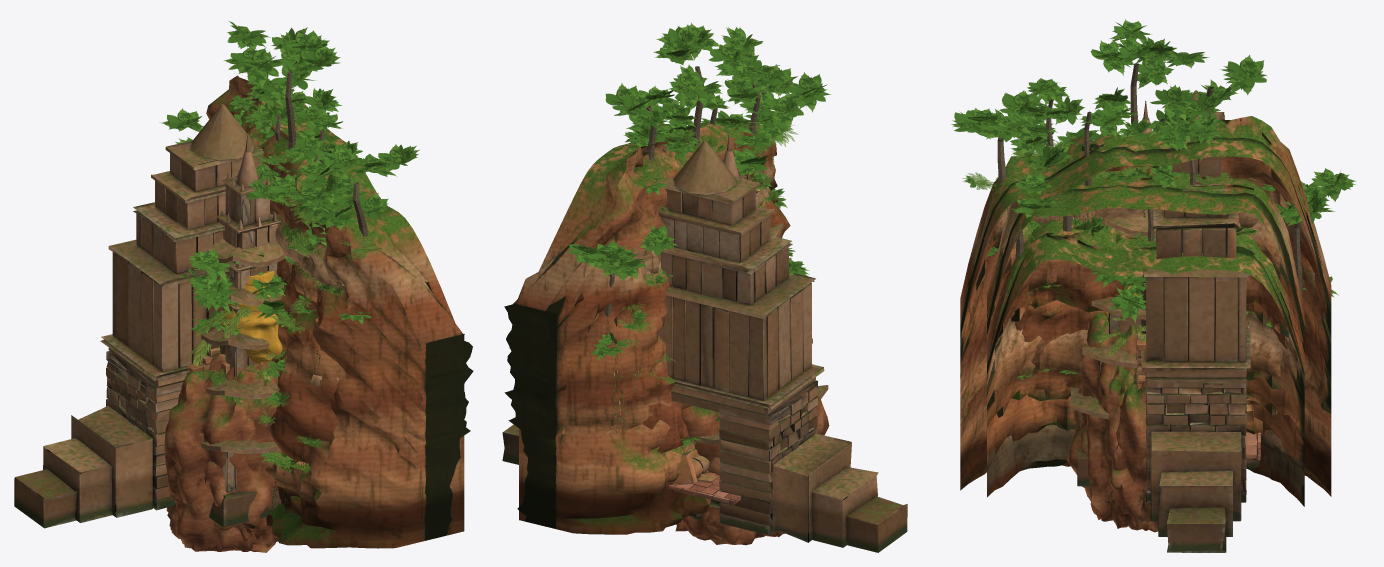
Rendered from kit.high.glb.
3 renders of one model, left to right at view 1: azimuth 30°, elevation 25°; view 2: azimuth 150°, elevation 25°; view 3: azimuth 270°, elevation 25°, orthographic. The views are drawn at different scales.
Visible parts, largest first — view 1: cliff_wall_2, face_gate_0, cliff_wall_2_veg, rock_big_0, cliff_wall_1, temple_1, cliff_wall_1_veg, rock_big_2, temple_0, cliff_wall_0_veg, tree_big_1_crown, face_gate_0_gold (+4 smaller); view 2: cliff_wall_2, face_gate_0, cliff_wall_2_veg, cliff_wall_1_veg, cliff_wall_0_veg, cliff_wall_1, rock_big_1, cliff_wall_2_trees, floor_wide_0, rock_big_2, rock_big_0, column_fallen_0 (+2 smaller); view 3: face_gate_0, cliff_wall_0, cliff_wall_2, cliff_wall_1, cliff_wall_2_veg, rock_big_1, cliff_wall_0_veg, cliff_wall_1_veg, rock_big_2, temple_1, rock_big_0, cliff_wall_2_trees (+1 smaller).
Boxes of the visible parts, x1=… form: cliff_wall_2: x1=206, y1=75, x2=473, y2=548; face_gate_0: x1=14, y1=104, x2=264, y2=528; cliff_wall_2_veg: x1=159, y1=21, x2=419, y2=527; rock_big_0: x1=164, y1=361, x2=278, y2=552; cliff_wall_1: x1=269, y1=196, x2=348, y2=515; temple_1: x1=201, y1=239, x2=285, y2=527; cliff_wall_1_veg: x1=229, y1=84, x2=343, y2=432; rock_big_2: x1=175, y1=353, x2=276, y2=551; temple_0: x1=217, y1=133, x2=280, y2=510; cliff_wall_0_veg: x1=245, y1=164, x2=388, y2=473; tree_big_1_crown: x1=179, y1=248, x2=288, y2=318; face_gate_0_gold: x1=221, y1=271, x2=282, y2=363; cliff_wall_2: x1=504, y1=123, x2=790, y2=534; face_gate_0: x1=502, y1=140, x2=907, y2=552; cliff_wall_2_veg: x1=567, y1=22, x2=830, y2=433; cliff_wall_1_veg: x1=623, y1=64, x2=773, y2=252; cliff_wall_0_veg: x1=622, y1=92, x2=791, y2=447; cliff_wall_1: x1=642, y1=165, x2=769, y2=452; rock_big_1: x1=675, y1=406, x2=783, y2=545; cliff_wall_2_trees: x1=604, y1=66, x2=767, y2=316; floor_wide_0: x1=669, y1=472, x2=740, y2=504; rock_big_2: x1=695, y1=412, x2=784, y2=544; rock_big_0: x1=681, y1=396, x2=829, y2=536; column_fallen_0: x1=674, y1=452, x2=709, y2=484; face_gate_0: x1=1141, y1=90, x2=1250, y2=552; cliff_wall_0: x1=987, y1=217, x2=1304, y2=506; cliff_wall_2: x1=960, y1=116, x2=1331, y2=496; cliff_wall_1: x1=987, y1=167, x2=1304, y2=477; cliff_wall_2_veg: x1=951, y1=19, x2=1356, y2=297; rock_big_1: x1=1074, y1=311, x2=1158, y2=530; cliff_wall_0_veg: x1=985, y1=123, x2=1272, y2=400; cliff_wall_1_veg: x1=1052, y1=86, x2=1230, y2=224; rock_big_2: x1=1067, y1=365, x2=1169, y2=530; temple_1: x1=1071, y1=216, x2=1155, y2=486; rock_big_0: x1=1073, y1=373, x2=1165, y2=532; cliff_wall_2_trees: x1=997, y1=63, x2=1302, y2=294.
Size of the model in its own units: 31.21 by 38.53 by 30.14.
Materials: 12 (12 with a texture image).
